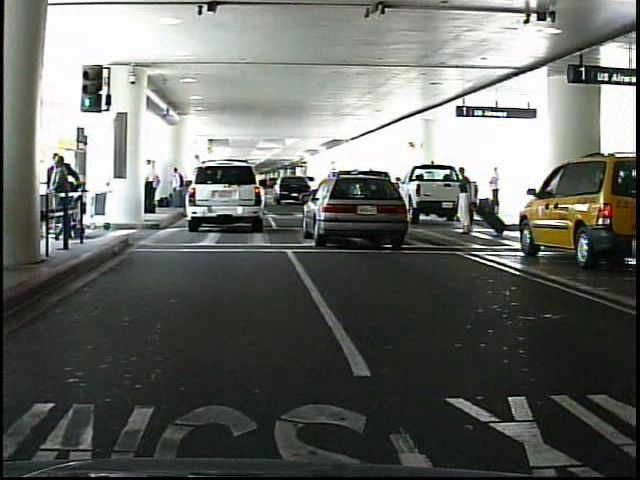person: (458, 165, 480, 237), (492, 165, 507, 218), (150, 157, 162, 217), (174, 167, 188, 210)
